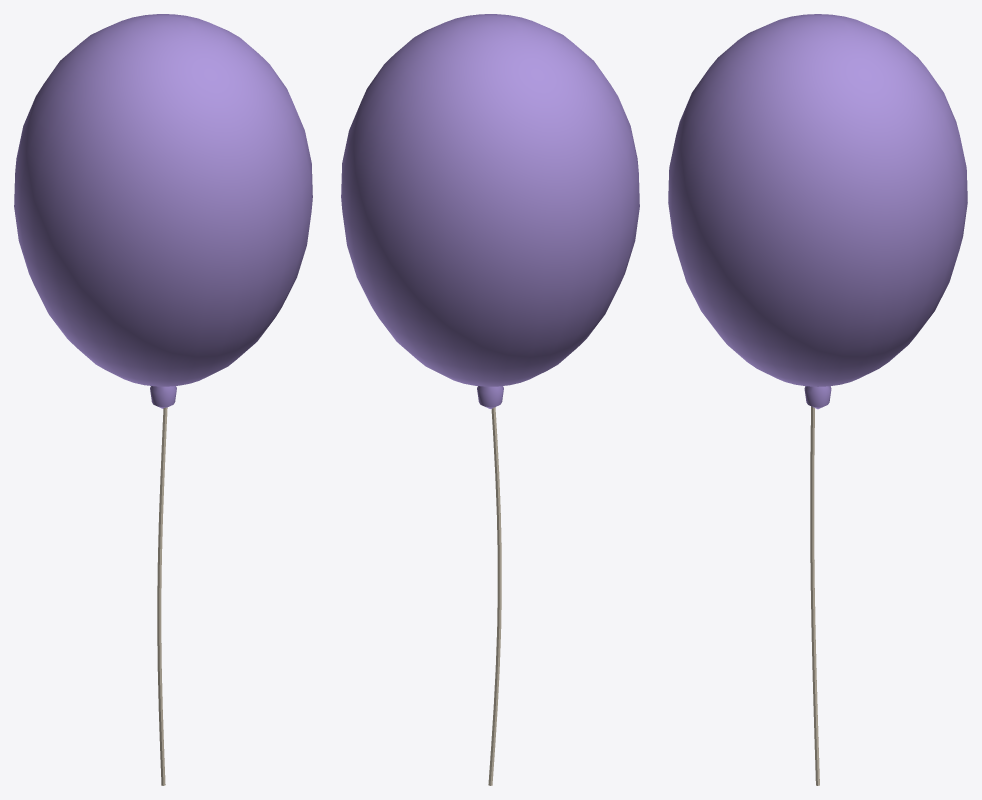
Rendered from Target_Balloon.fbx.
3 renders of one model, left to right at view 1: azimuth 30°, elevation 25°; view 2: azimuth 150°, elevation 25°; view 3: azimuth 270°, elevation 25°, orthographic.
Parts seen in each view (by area): view 1: Target_Balloon; view 2: Target_Balloon; view 3: Target_Balloon.
Part boxes in pixels (bbox=[...]): Target_Balloon: bbox=[14, 14, 312, 785]; Target_Balloon: bbox=[341, 14, 639, 785]; Target_Balloon: bbox=[668, 14, 967, 785].
Size of the model in its own units: 0.1547 by 0.4324 by 0.1547.
